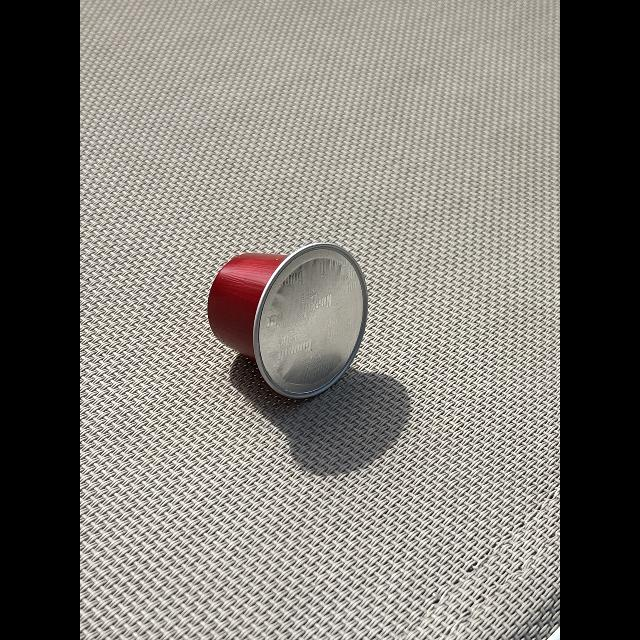intact_capsule: (197, 234, 375, 422)
